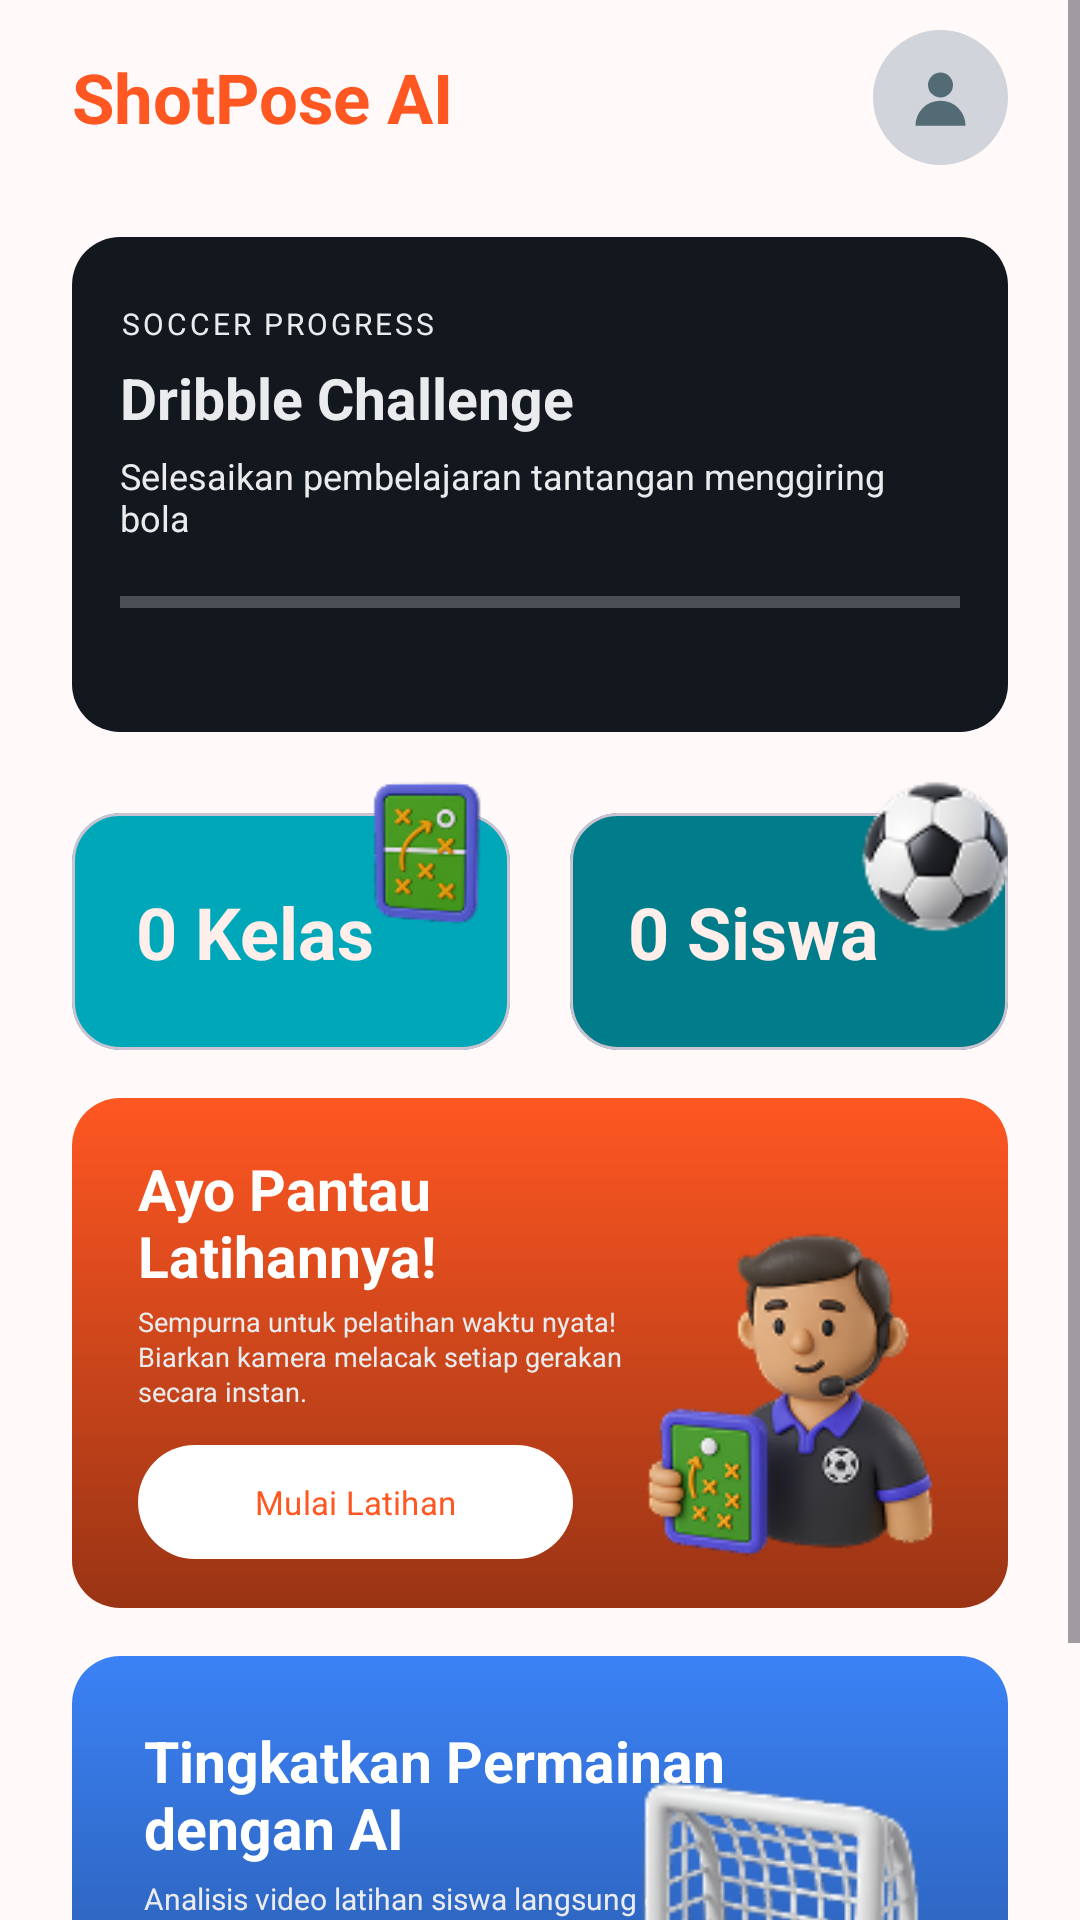

Icons on this 1080px x 1920px Android screen, each with the point to tap as [x,y]:
Buka profil guru: [940,97]
Soccer ball: [932,859]
Tactics board: [426,852]
